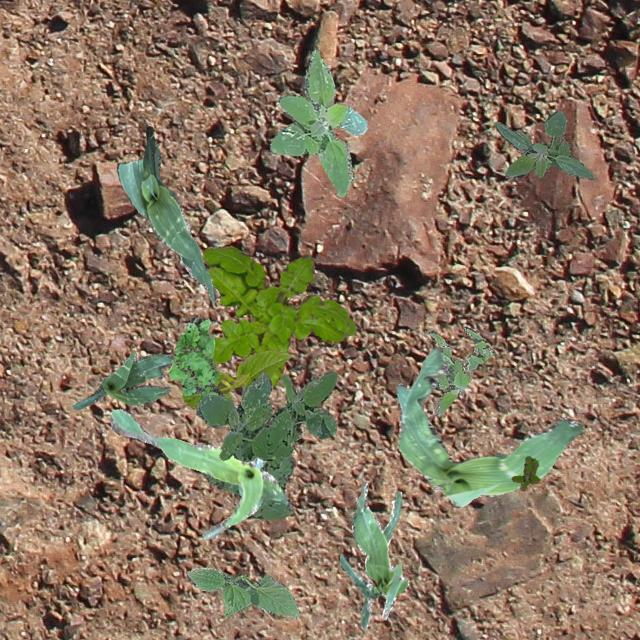crop: (394, 346, 582, 507), (108, 408, 282, 538), (116, 125, 216, 302), (338, 481, 408, 628), (182, 349, 292, 406), (185, 566, 298, 618), (73, 351, 174, 408)
weed: (202, 246, 356, 386), (268, 48, 366, 195), (196, 370, 336, 460), (494, 110, 594, 178), (200, 454, 294, 520), (428, 326, 492, 416), (166, 316, 222, 396), (511, 456, 538, 490)
